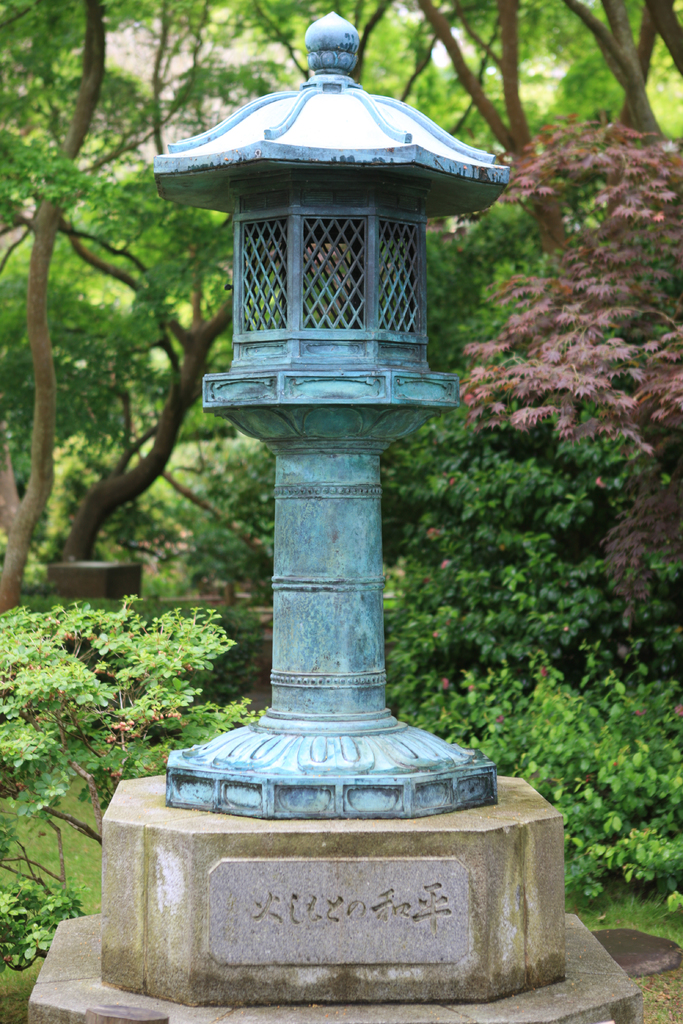Tree: (0, 0, 682, 801)
